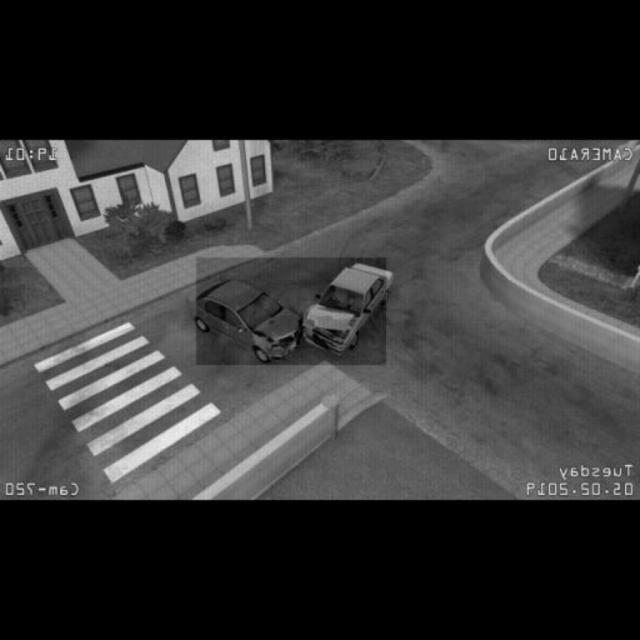vehicle: (197, 258, 387, 366)
